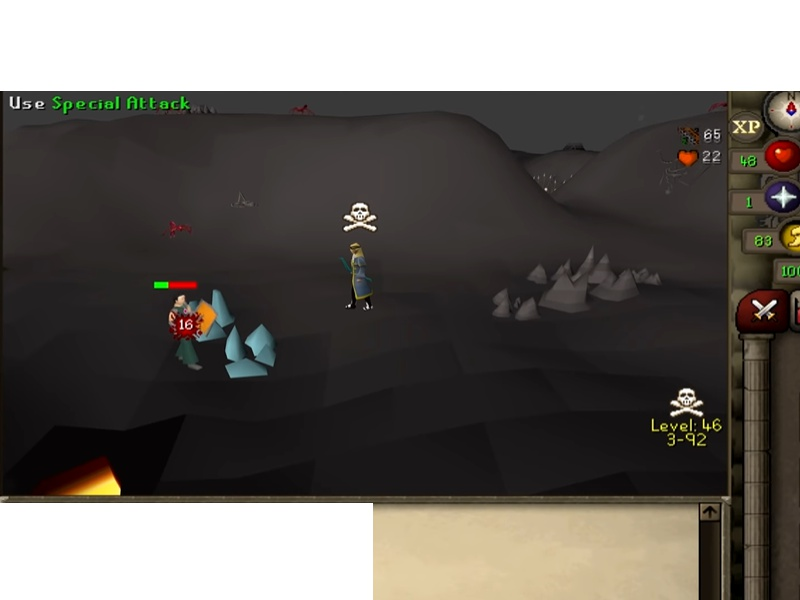rune: (223, 322, 282, 384), (182, 284, 240, 344)
